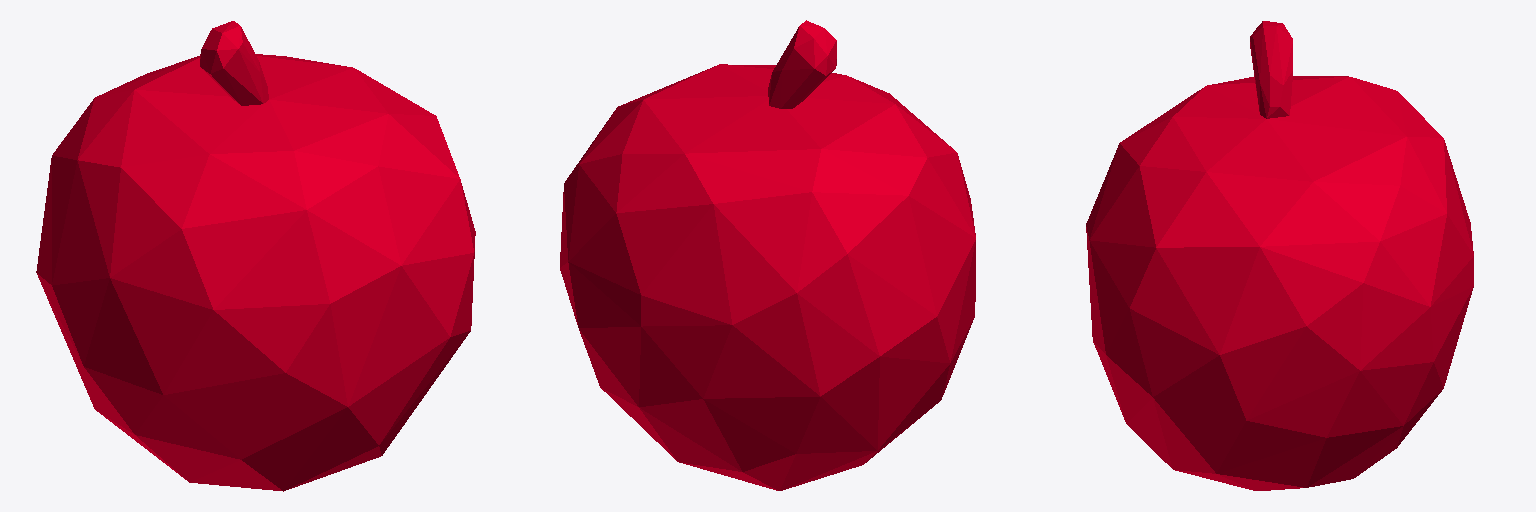
URDF robot description (apple):
<robot name="apple">
	<link name="_name">
		<visual>
			<origin xyz="-0.0003328705163547993 -0.00013267583032883782 0.0020333386902168437" rpy="0 0 0" />
			<geometry>
				<mesh filename="apple_vhacd.obj" scale="1 1 1" />
			</geometry>
       		<material name="red">
        		<color rgba="0.9 0 0.2 1.0"/>
      		</material>
		</visual>
		<collision>
			<geometry>
				<mesh filename="apple_vhacd.obj" scale="1 1 1" />
			</geometry>
		<origin xyz="-0.0003328705163547993 -0.00013267583032883782 0.0020333386902168437" rpy="0 0 0" /></collision>
		<inertial>
			<mass value="1.0" />
			<inertia ixx="1.0" ixy="0.0" ixz="0.0" iyy="1.0" iyz="0.0" izz="1.0" />
		</inertial>
	</link>
</robot>

--- What the picture shows (computed from the rendered views, not written in the file) ---
The picture shows the robot from 3 angles, left to right: view 1: azimuth 30°, elevation 25°; view 2: azimuth 150°, elevation 25°; view 3: azimuth 270°, elevation 25°; orthographic projection.
Robot: apple — 1 links, 0 joints (none); root link _name; default pose: all joints at 0.
Links seen in each view (by area): view 1: _name; view 2: _name; view 3: _name.
Link boxes in pixels (x1=…): _name: x1=36, y1=21, x2=475, y2=491; _name: x1=560, y1=20, x2=975, y2=490; _name: x1=1086, y1=21, x2=1473, y2=490.
Bounding box of the posed robot: 0.0692 × 0.0647 × 0.0787 m (x, y, z).
Meshes: 1 distinct files referenced, 1 mesh visuals loaded (1 OBJ).
